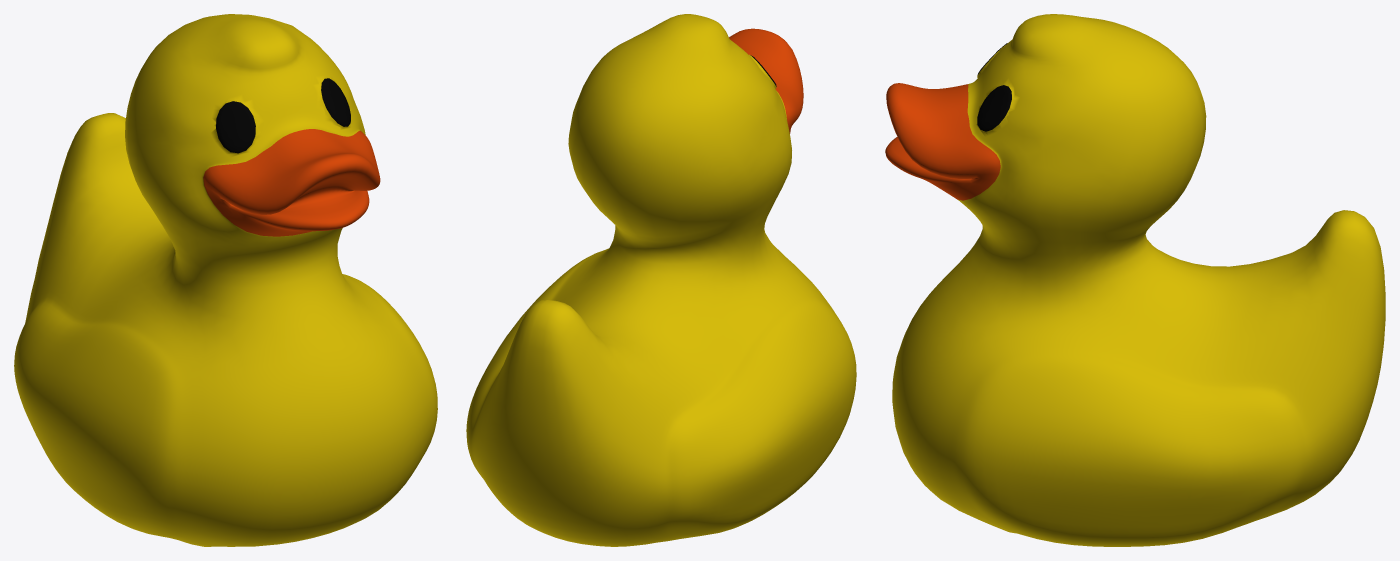
File: RubberDuck.fbx
The picture shows the model from 3 angles, left to right: view 1: azimuth 30°, elevation 25°; view 2: azimuth 150°, elevation 25°; view 3: azimuth 270°, elevation 25°; orthographic projection. The views are drawn at different scales.
Parts seen in each view (by area): view 1: Rubber Duck; view 2: Rubber Duck; view 3: Rubber Duck.
Boxes of the visible parts, <box> form: Rubber Duck: <box>14,14,437,546</box>; Rubber Duck: <box>466,14,856,546</box>; Rubber Duck: <box>885,14,1385,546</box>.
Size of the model in its own units: 74.23 by 107 by 101.
